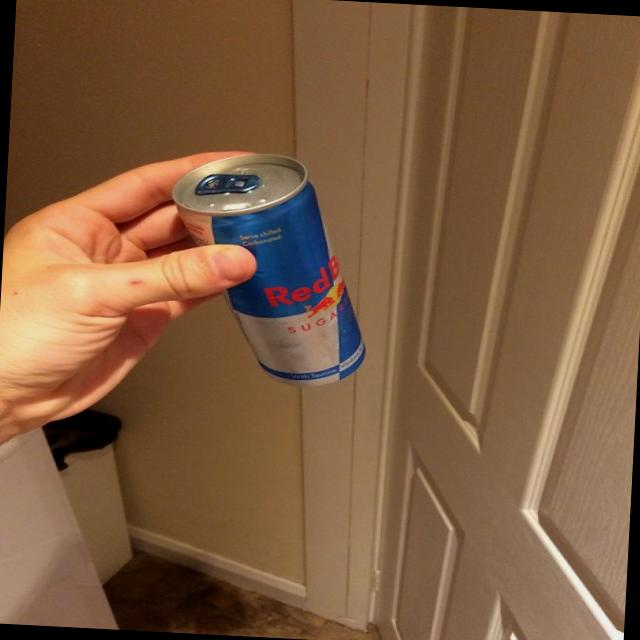Recycle: (158, 160, 400, 389)
